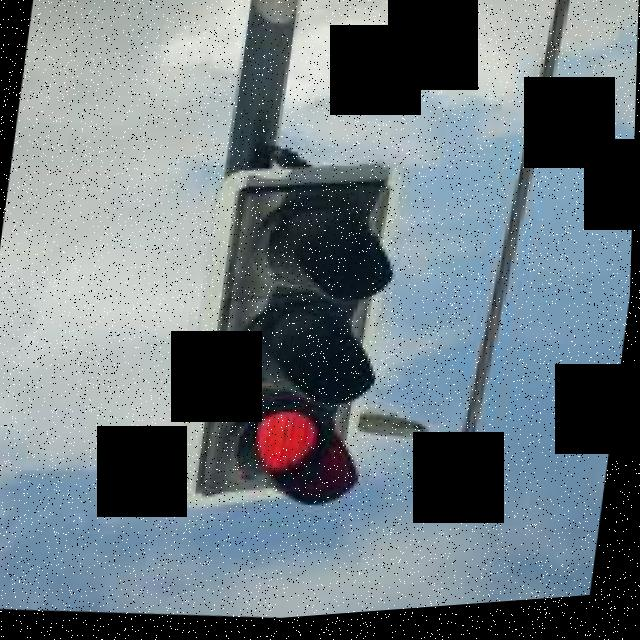red: (191, 164, 398, 525)
